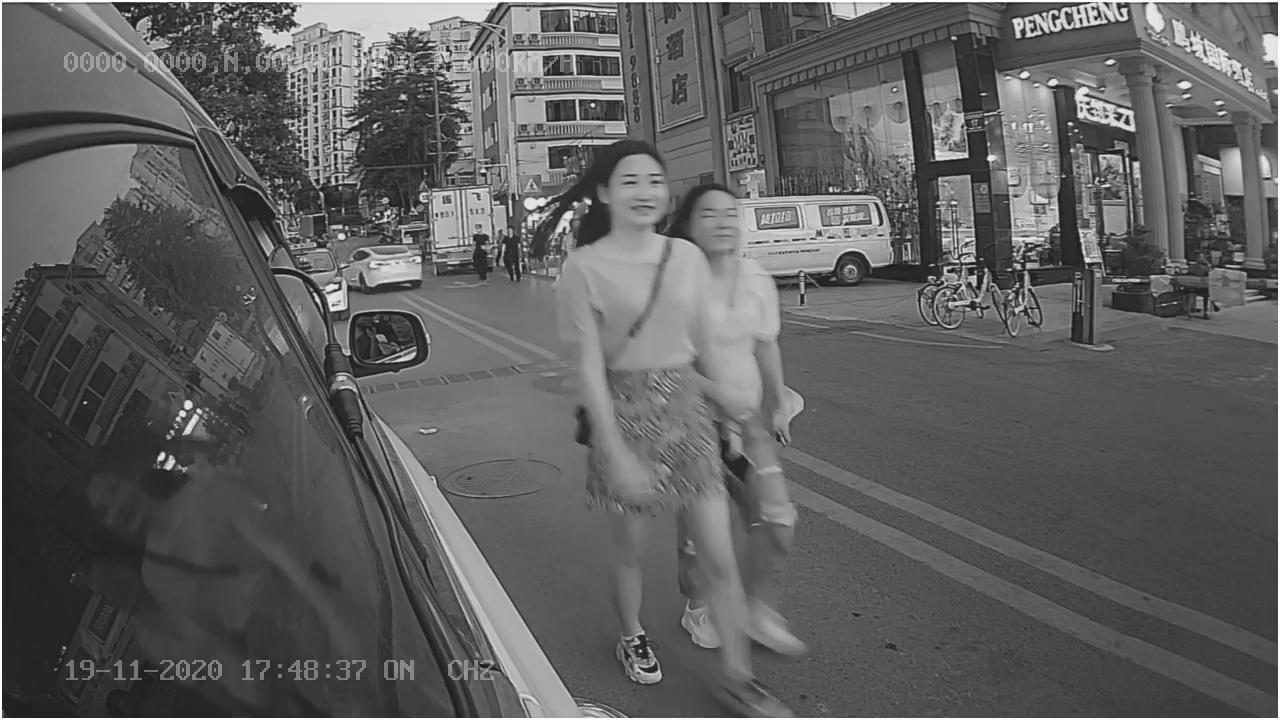person: (557, 135, 767, 678)
